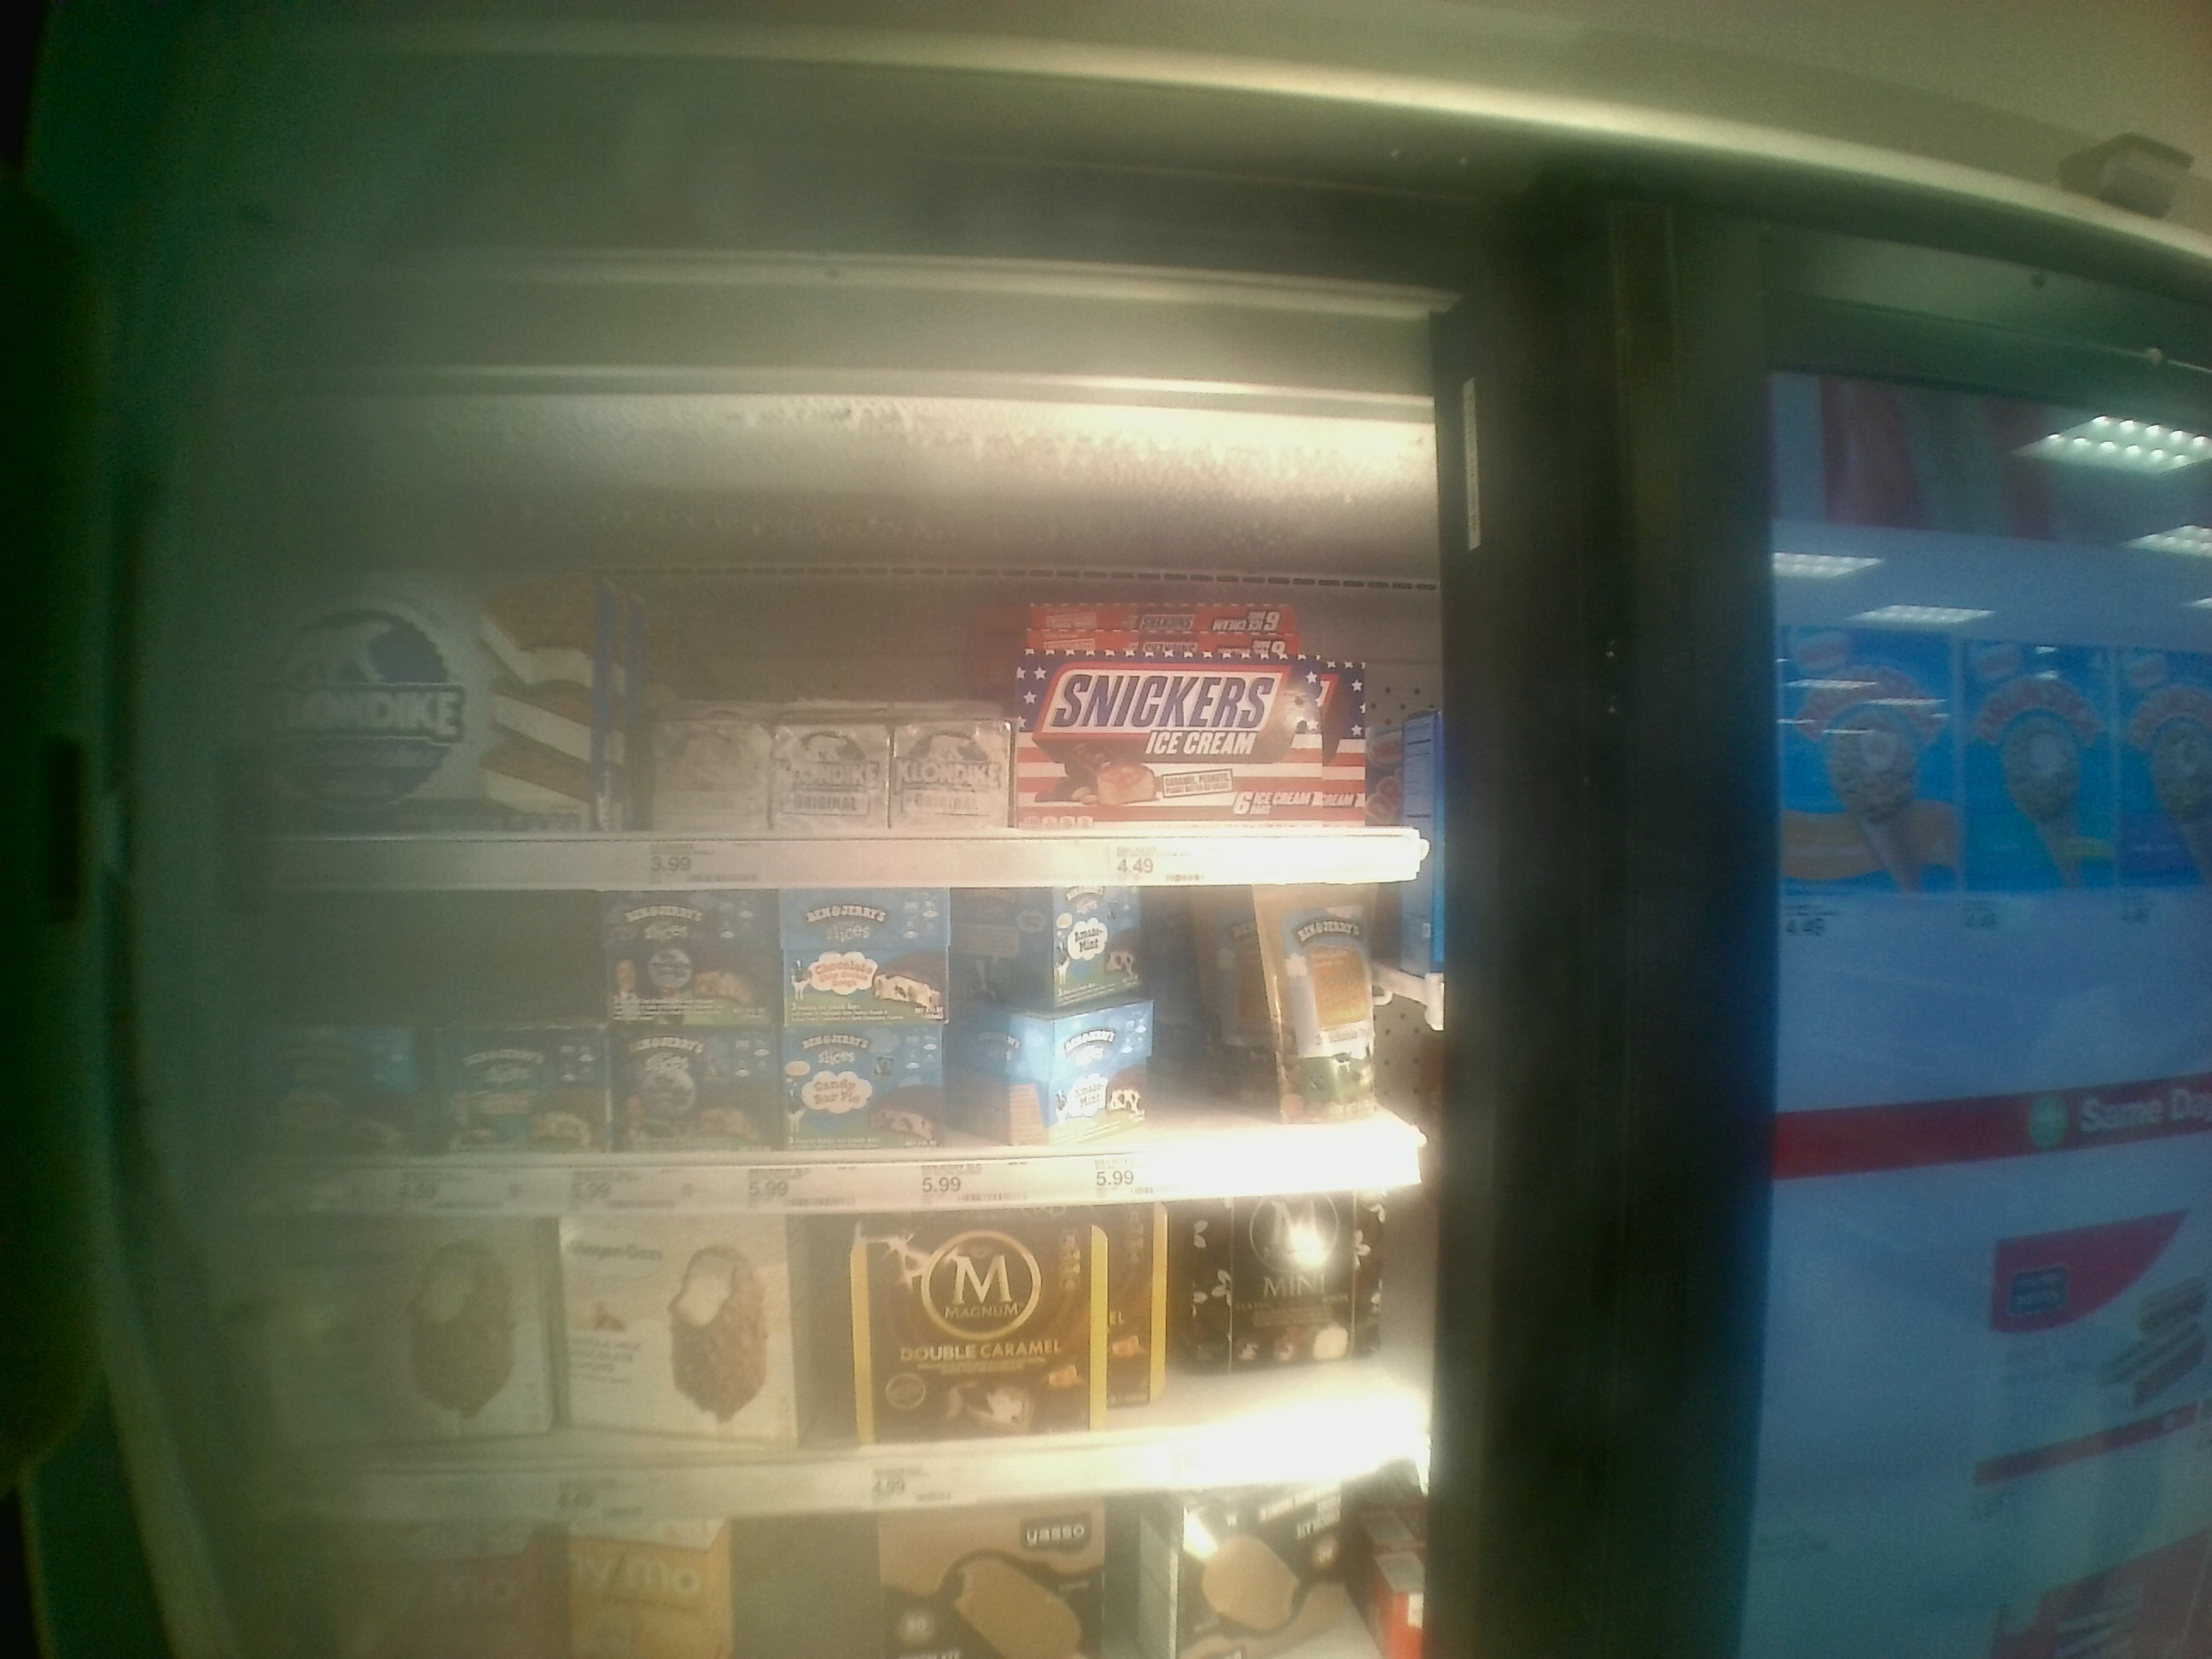ice-cream-shelf: (193, 437, 1451, 887), (200, 889, 1439, 1208), (200, 1208, 1444, 1504)
